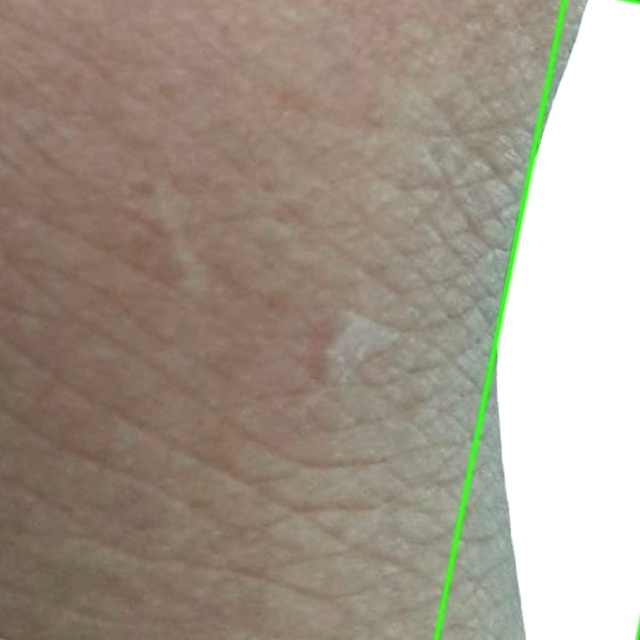Scabies: (435, 0, 639, 639)
